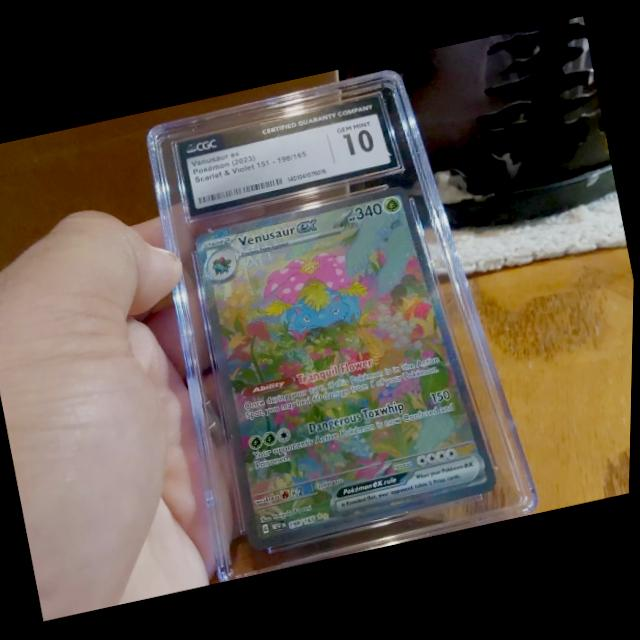card: (194, 184, 503, 553)
cgc_label: (175, 94, 400, 217)
cgc_slab: (144, 66, 546, 583)
